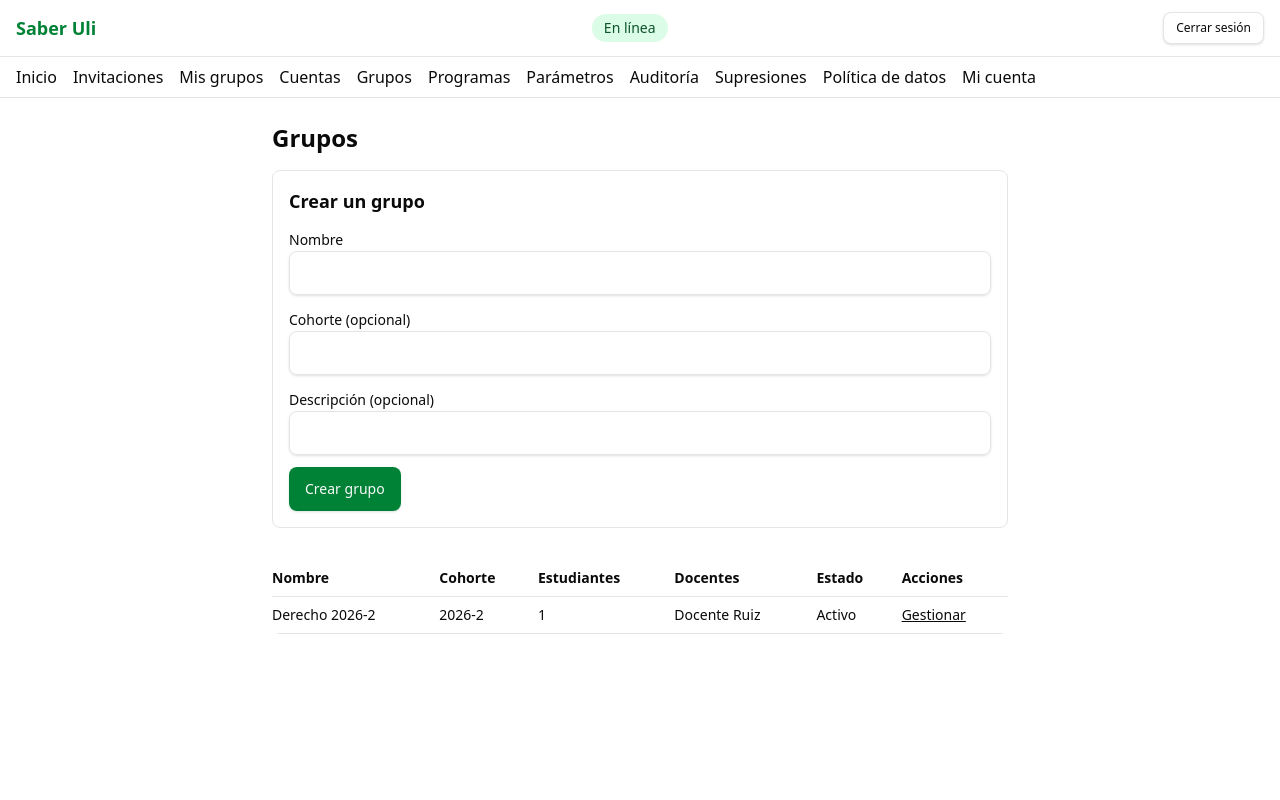
Test: grupos › lista los grupos y crea uno nuevo
Expected: the row "Derecho 2026-2 2026-2 1 Docente Ruiz Activo Gestionar" is shown, [272,596,1008,634]
Type "Derecho 2027-1" into the field labelled "Nombre". click: (640, 273)
box: [289,251,991,295]
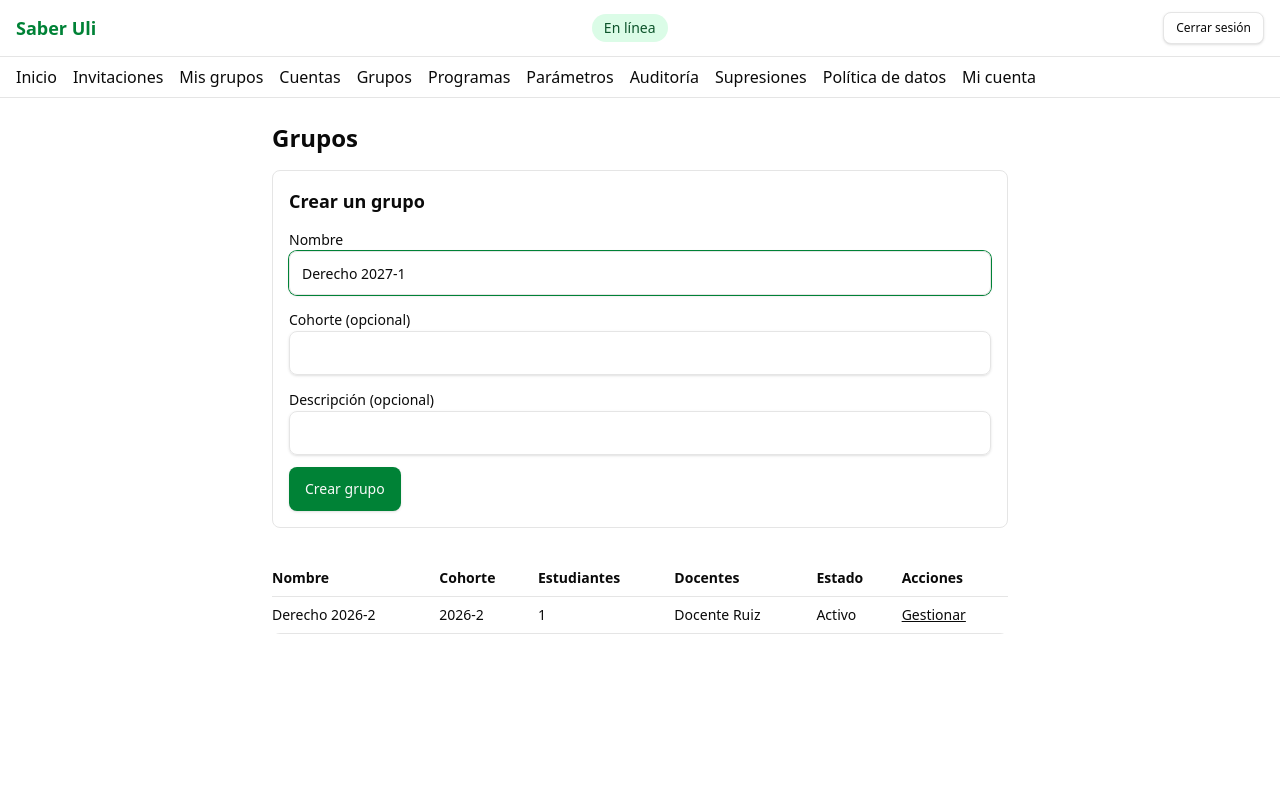
Type "2027-1" into the field labelled "Cohorte (opcional)". click: (640, 353)
box: [289,331,991,375]
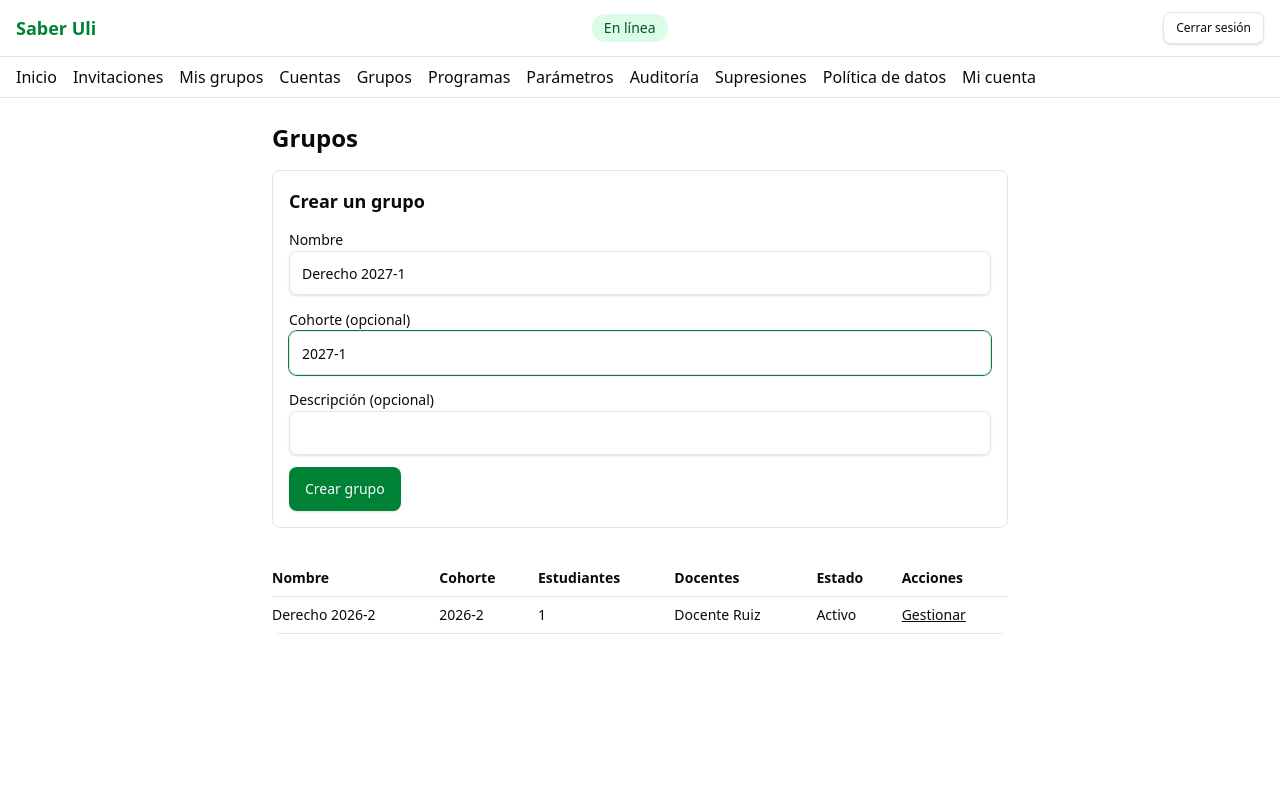
Click the button "Crear grupo". click: (345, 489)
box: [289,467,401,511]
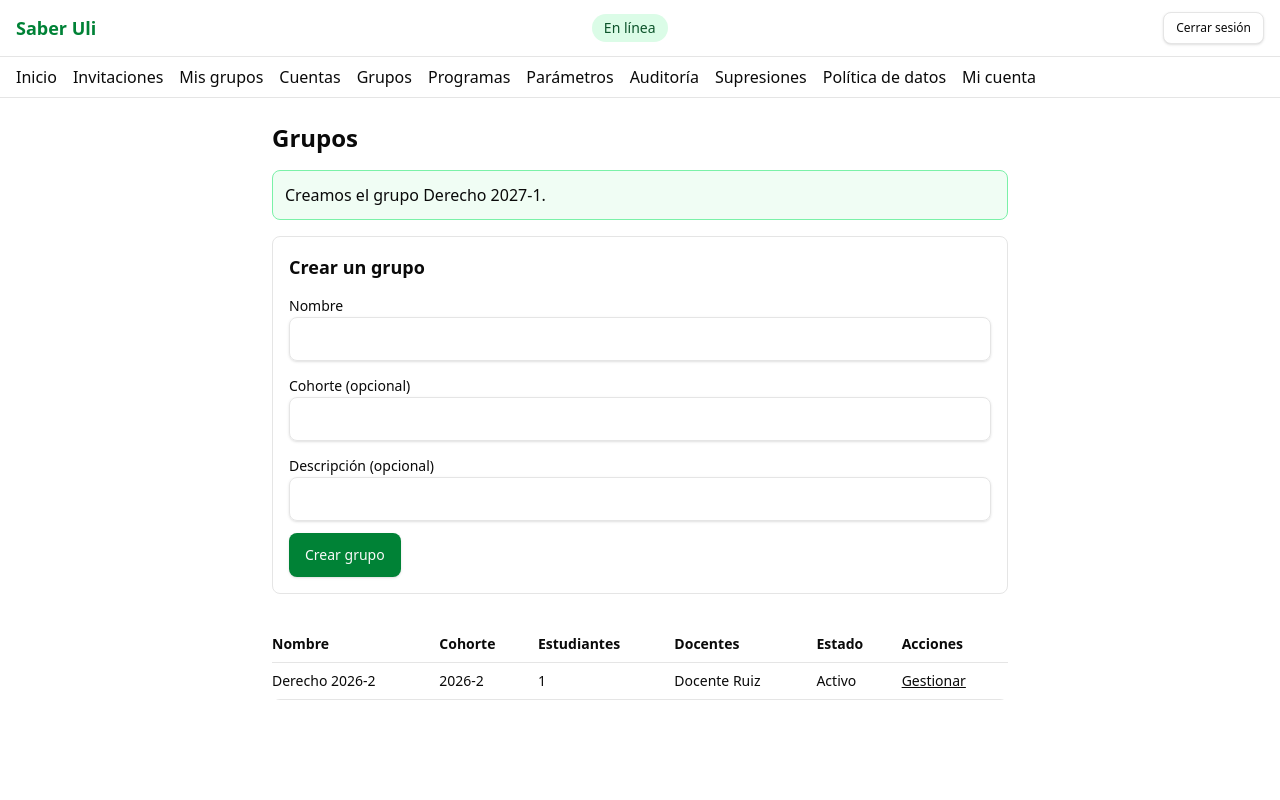
Expected: the text "Creamos el grupo Derecho 2027-1." is shown, [272,170,1008,220]
